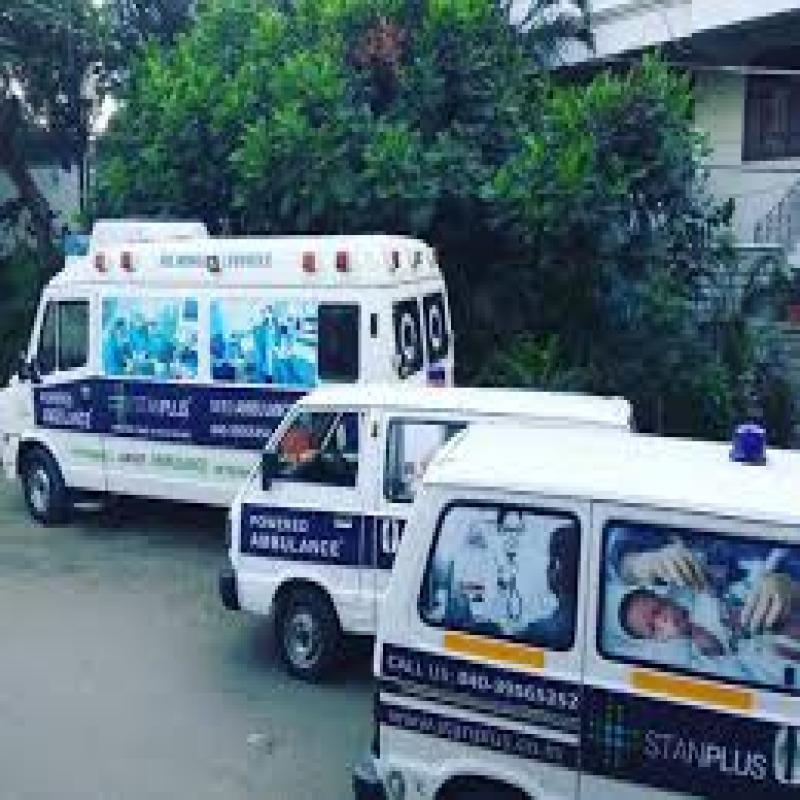ambulance: (2, 189, 468, 568)
